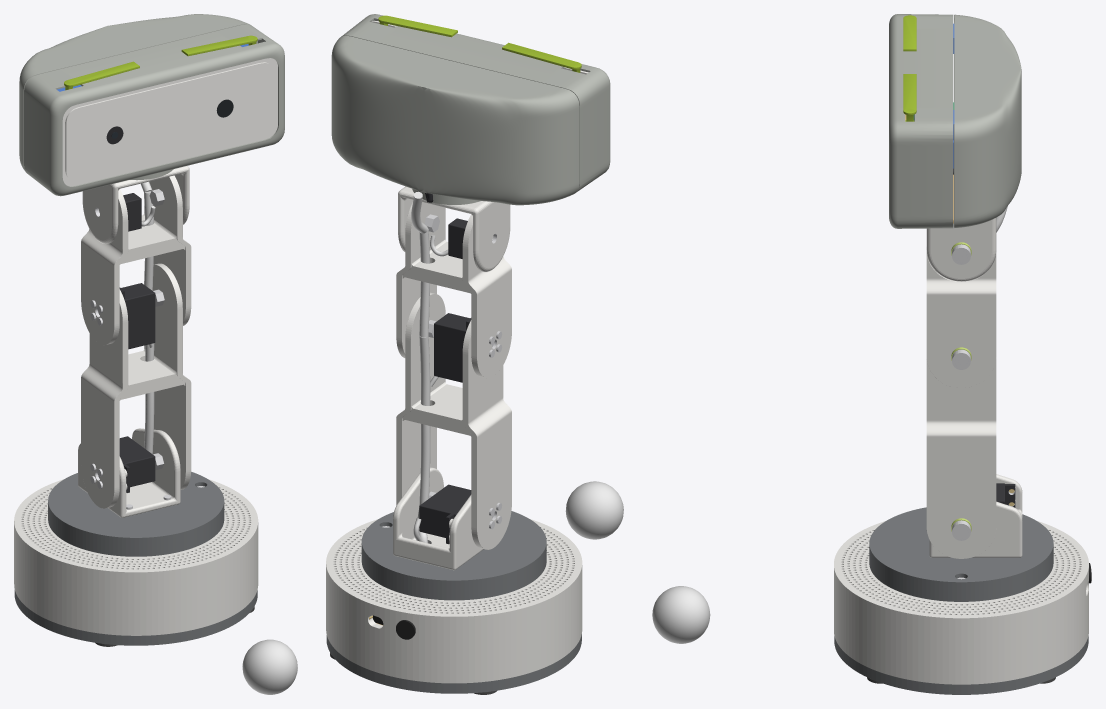
The model's file is lamp.glb.
The picture shows the model from 3 angles, left to right: view 1: azimuth 30°, elevation 25°; view 2: azimuth 150°, elevation 25°; view 3: azimuth 270°, elevation 25°; orthographic projection. The views are drawn at different scales.
Parts seen in each view (by area): view 1: Base shell, Sprout D - face panel, Sprout D - front ring, Lower link (one piece: 2 plates + web), Turntable (part of the riser), Upper link (one piece: 2 plates + web), Sprout D - back shell, Riser (one piece: walls + floor + back), Neck yoke (one piece: cheeks + web + post), Base bottom plate, Sphere, Sprout D - inner carrier (+7 smaller); view 2: Sprout D - back shell, Base shell, Lower link (one piece: 2 plates + web), Upper link (one piece: 2 plates + web), Sprout D - front ring, Turntable (part of the riser), Riser (one piece: walls + floor + back), Neck yoke (one piece: cheeks + web + post), Base bottom plate, Sphere, DS3225MG (elbow/base) - case.001, DS3225MG (shoulder) - case (+5 smaller); view 3: Base shell, Sprout D - front ring, Sprout D - back shell, Lower link (one piece: 2 plates + web), Turntable (part of the riser), Upper link (one piece: 2 plates + web), Neck yoke (one piece: cheeks + web + post), Base bottom plate, Sphere, Riser (one piece: walls + floor + back).
Boxes of the visible parts, x1,y1,x2,y2 form: Base shell: (14,479,258,635); Sprout D - face panel: (65,62,273,181); Sprout D - front ring: (24,24,284,196); Lower link (one piece: 2 plates + web): (81,263,191,508); Turntable (part of the riser): (48,472,224,556); Upper link (one piece: 2 plates + web): (81,175,191,345); Sprout D - back shell: (19,14,249,171); Riser (one piece: walls + floor + back): (78,428,180,517); Neck yoke (one piece: cheeks + web + post): (82,166,189,244); Base bottom plate: (14,590,257,645); Sphere: (242,639,297,694); Sprout D - inner carrier: (62,58,277,186); Sprout D - back shell: (331,35,579,205); Base shell: (326,519,582,683); Lower link (one piece: 2 plates + web): (396,292,511,549); Upper link (one piece: 2 plates + web): (396,202,511,378); Sprout D - front ring: (341,14,610,191); Turntable (part of the riser): (361,511,546,600); Riser (one piece: walls + floor + back): (393,467,483,570); Neck yoke (one piece: cheeks + web + post): (398,186,510,272); Base bottom plate: (326,634,581,693); Sphere: (565,481,623,539); DS3225MG (elbow/base) - case.001: (434,313,469,382); DS3225MG (shoulder) - case: (419,484,471,537); Base shell: (834,521,1088,684); Sprout D - front ring: (889,14,953,228); Sprout D - back shell: (954,14,1021,227); Lower link (one piece: 2 plates + web): (926,359,996,558); Turntable (part of the riser): (869,507,1053,601); Upper link (one piece: 2 plates + web): (926,252,996,387); Neck yoke (one piece: cheeks + web + post): (926,218,996,281); Base bottom plate: (834,636,1088,694); Sphere: (652,586,710,643); Riser (one piece: walls + floor + back): (929,474,1022,557).
Size of what is drawn, in the model's own units: 195 by 443 by 303.
